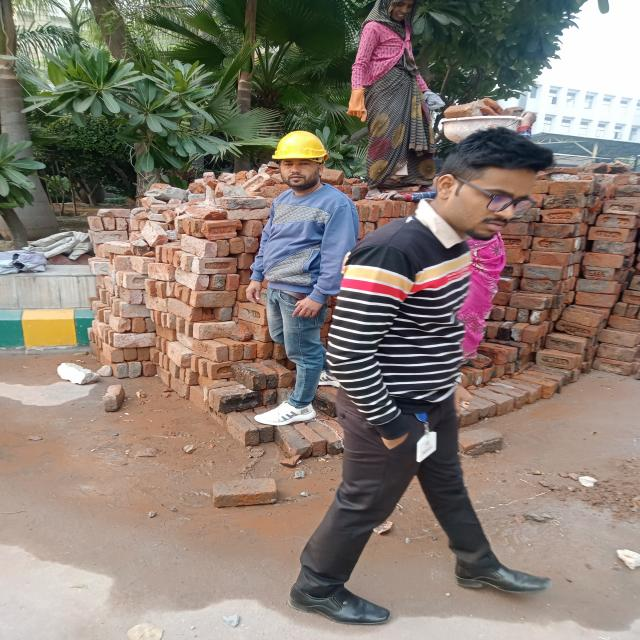no jacket: (249, 126, 348, 428)
unsafe: (341, 126, 561, 622), (352, 2, 444, 191)
